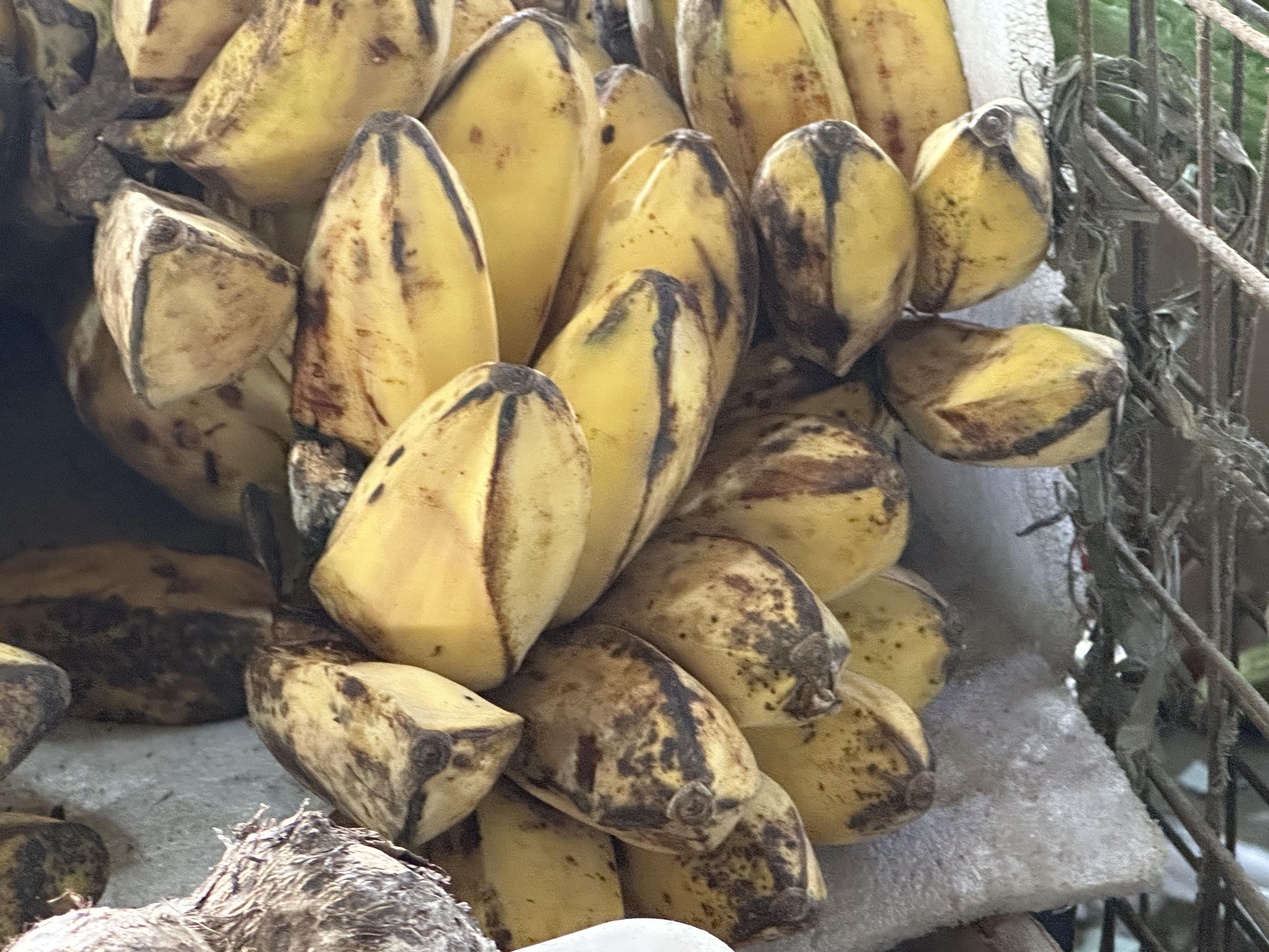ripe: (246, 9, 757, 844), (424, 341, 951, 948), (628, 0, 1127, 467), (88, 0, 461, 406)
